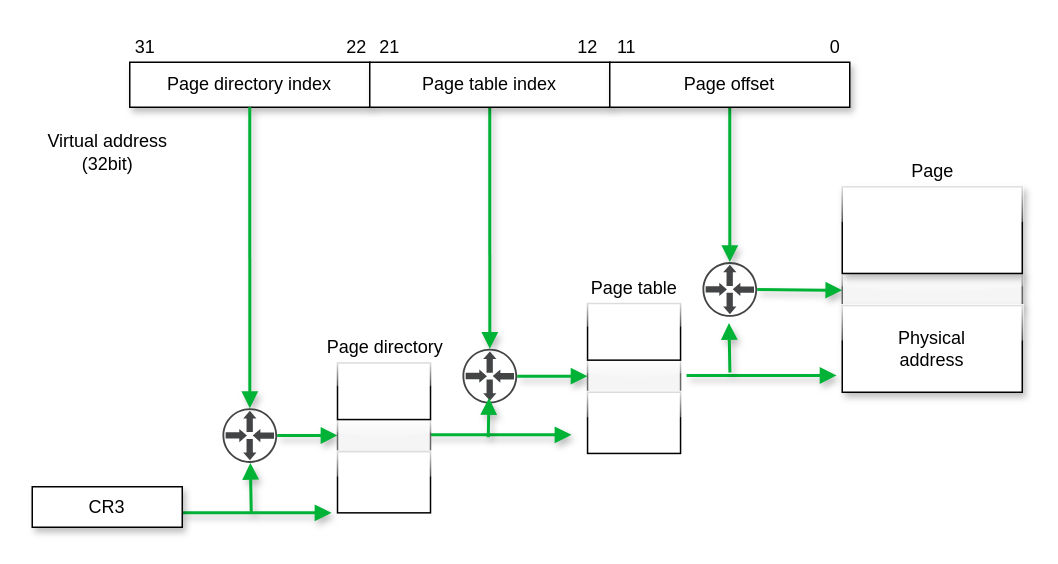
The diagram is 1058 pixels wide and 564 high, and some of its shapes have lost their labels. The shapes that lost their labels are listed below. From the top down, each one's centre as x and y in pixels, then its label:
[633,375]: PTE
[383,435]: PDE
